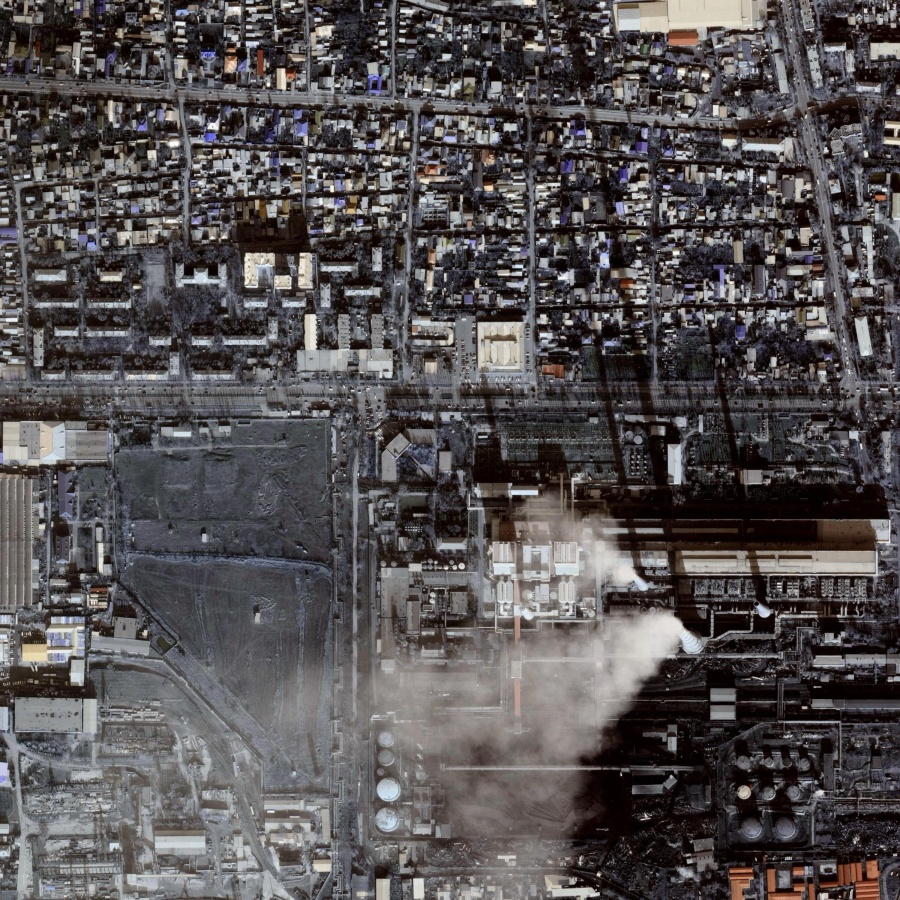PowerPlant: (380, 540, 884, 854)
